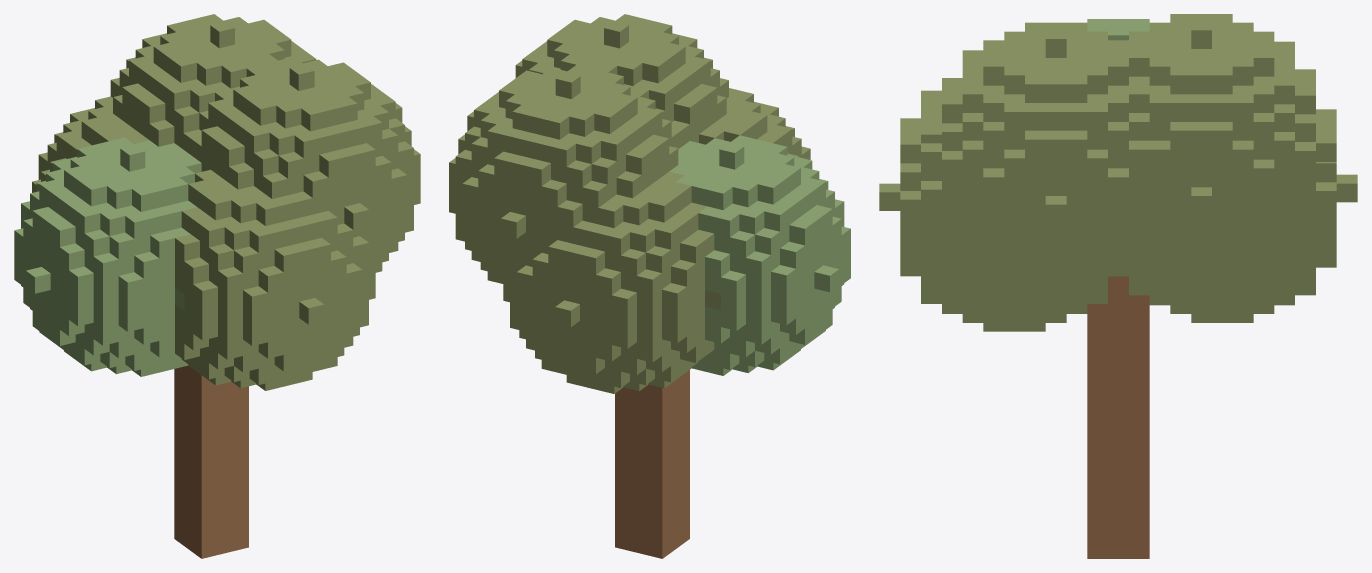
File: agriculture-09.glb
3 renders of one model, left to right at view 1: azimuth 30°, elevation 25°; view 2: azimuth 150°, elevation 25°; view 3: azimuth 270°, elevation 25°, orthographic. The views are drawn at different scales.
Parts seen in each view (by area): view 1: Orchard tree; view 2: Orchard tree; view 3: Orchard tree.
Boxes of the visible parts, x1,y1,x2,y2 form: Orchard tree: (14, 14, 420, 558); Orchard tree: (449, 14, 850, 558); Orchard tree: (879, 14, 1357, 558).
Size of the model in its own units: 1.76 by 2.32 by 1.84.
